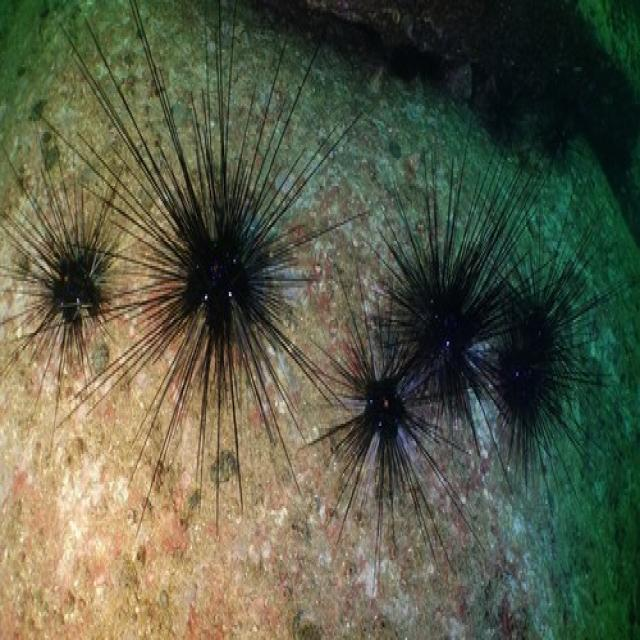Urchin: (63, 4, 365, 521), (296, 247, 481, 578), (370, 123, 507, 450), (477, 162, 612, 489), (4, 128, 128, 426)
